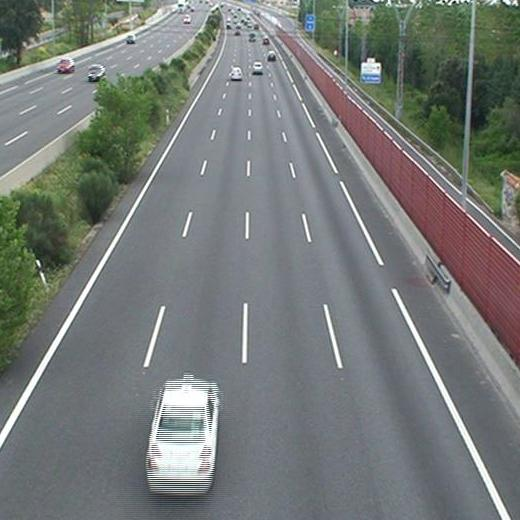car: (147, 382, 216, 492), (231, 67, 242, 79), (253, 63, 263, 73), (267, 50, 275, 60), (261, 37, 268, 43)
